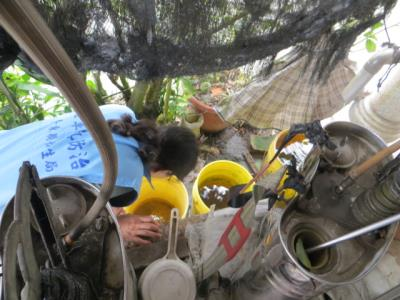bucket: (192, 158, 254, 214)
plate: (136, 256, 200, 300)
